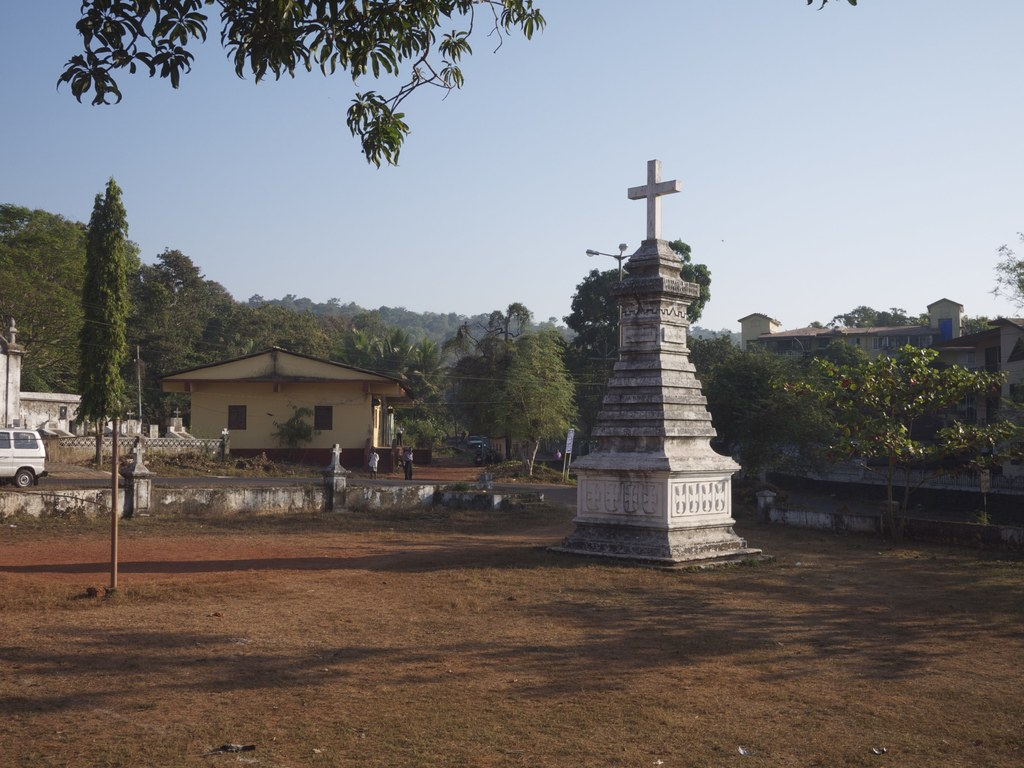Tree: (0, 204, 344, 430), (810, 339, 1023, 538), (51, 139, 153, 467), (684, 333, 808, 479), (471, 329, 586, 455), (461, 296, 535, 452), (559, 275, 628, 427), (342, 323, 453, 407), (666, 227, 712, 327), (395, 407, 467, 449), (986, 230, 1023, 309), (833, 302, 931, 327), (959, 311, 999, 339)
